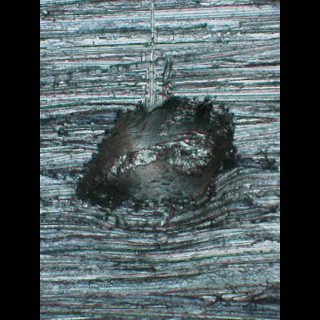d: (69, 65, 247, 239)
